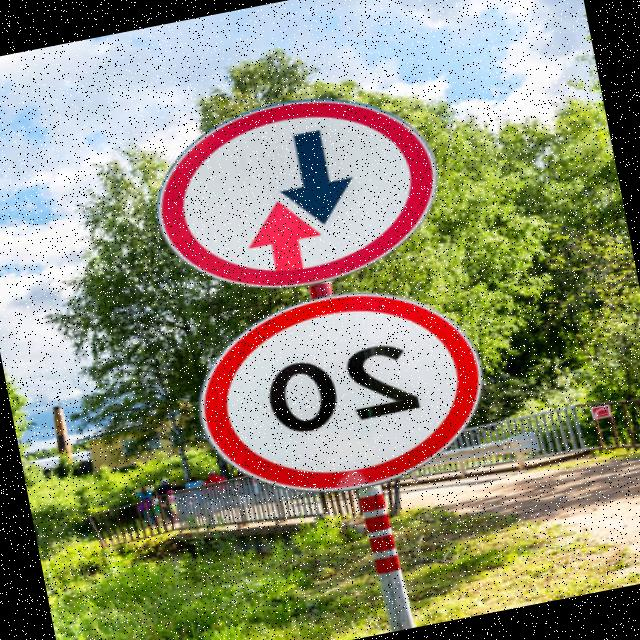speed_limit_20: (165, 255, 542, 536)
